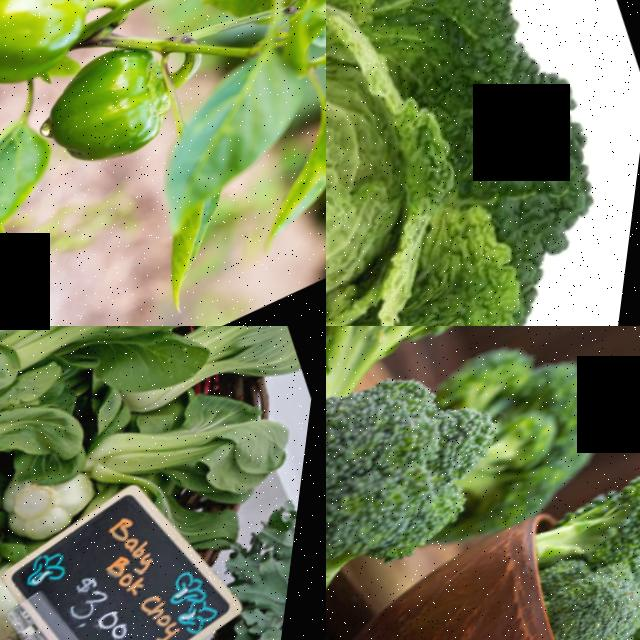bell pepper: (43, 59, 192, 193), (0, 0, 156, 117)
bok choy: (99, 390, 286, 538), (118, 326, 301, 431), (0, 367, 85, 513), (0, 326, 201, 374)
broccoli: (326, 329, 553, 640), (326, 326, 516, 442), (533, 434, 640, 587), (542, 555, 640, 640)
cabbage: (326, 0, 640, 326)
